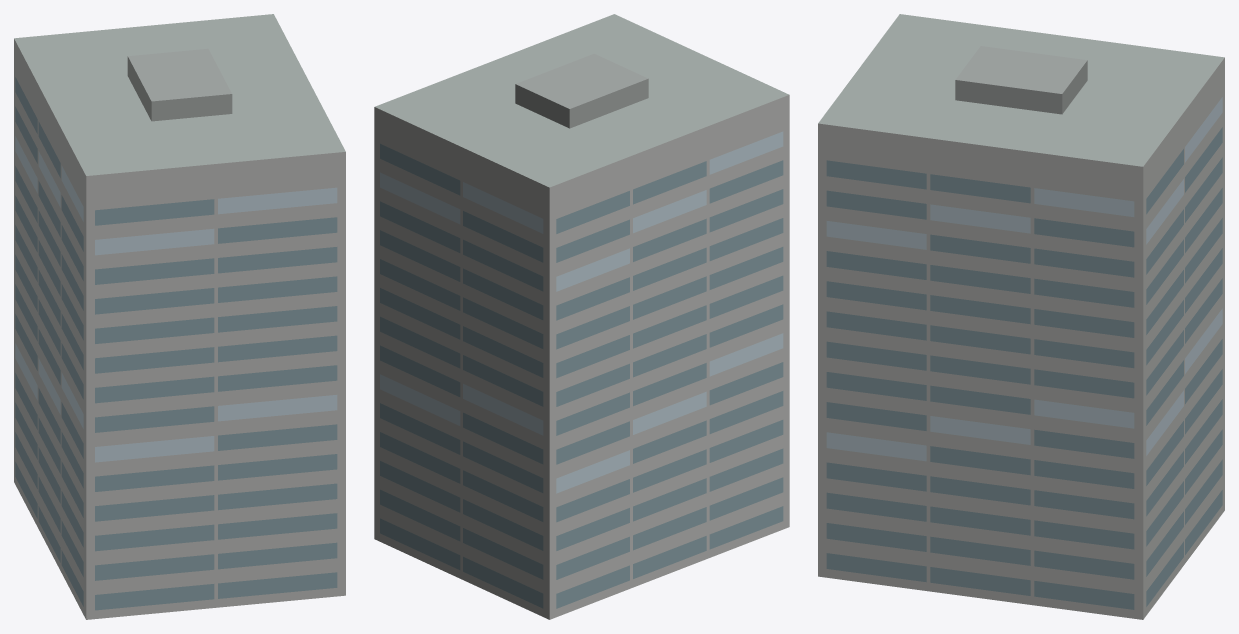
Rendered from fallback-olympic-park-foreon-303.glb.
3 renders of one model, left to right at view 1: azimuth 30°, elevation 25°; view 2: azimuth 150°, elevation 25°; view 3: azimuth 270°, elevation 25°, orthographic. The views are drawn at different scales.
Parts seen in each view (by area): view 1: fallback-olympic-park-foreon-303; view 2: fallback-olympic-park-foreon-303; view 3: fallback-olympic-park-foreon-303.
Part boxes in pixels (x1,y1,x2,y2): fallback-olympic-park-foreon-303: (14, 14, 345, 619); fallback-olympic-park-foreon-303: (374, 14, 789, 619); fallback-olympic-park-foreon-303: (818, 14, 1224, 619).
Bounding box in the file's own units: 33.1 × 47.81 × 37.24.
